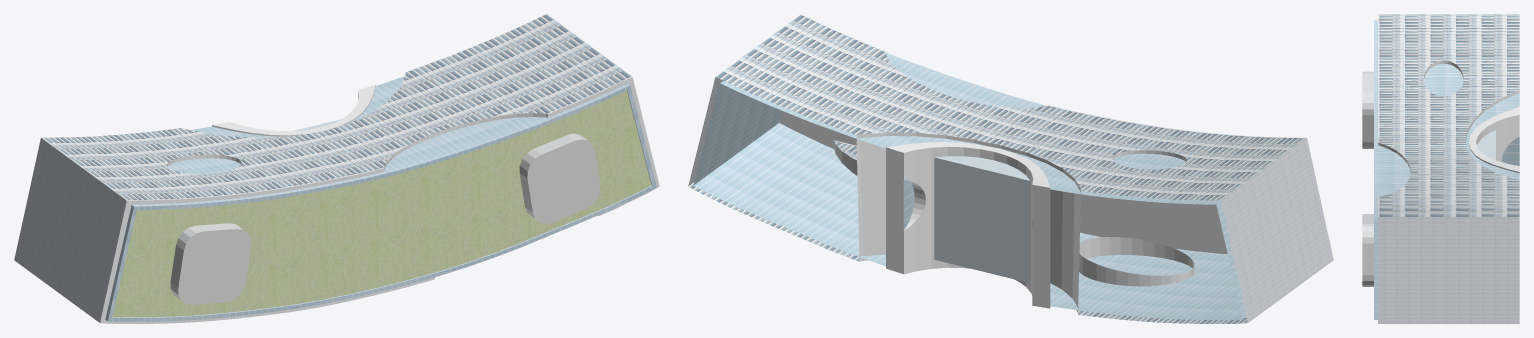
3 renders of one model, left to right at view 1: azimuth 30°, elevation 25°; view 2: azimuth 150°, elevation 25°; view 3: azimuth 270°, elevation 25°, orthographic. The views are drawn at different scales.
Visible parts, largest first — view 1: 1; view 2: 1; view 3: 1.
Part boxes in pixels (bbox=[...]): 1: bbox=[14, 14, 659, 323]; 1: bbox=[688, 14, 1333, 323]; 1: bbox=[1362, 14, 1519, 323].
Bounding box in the file's own units: 16.36 × 4.35 × 4.83.
8 materials, 6 textured.
